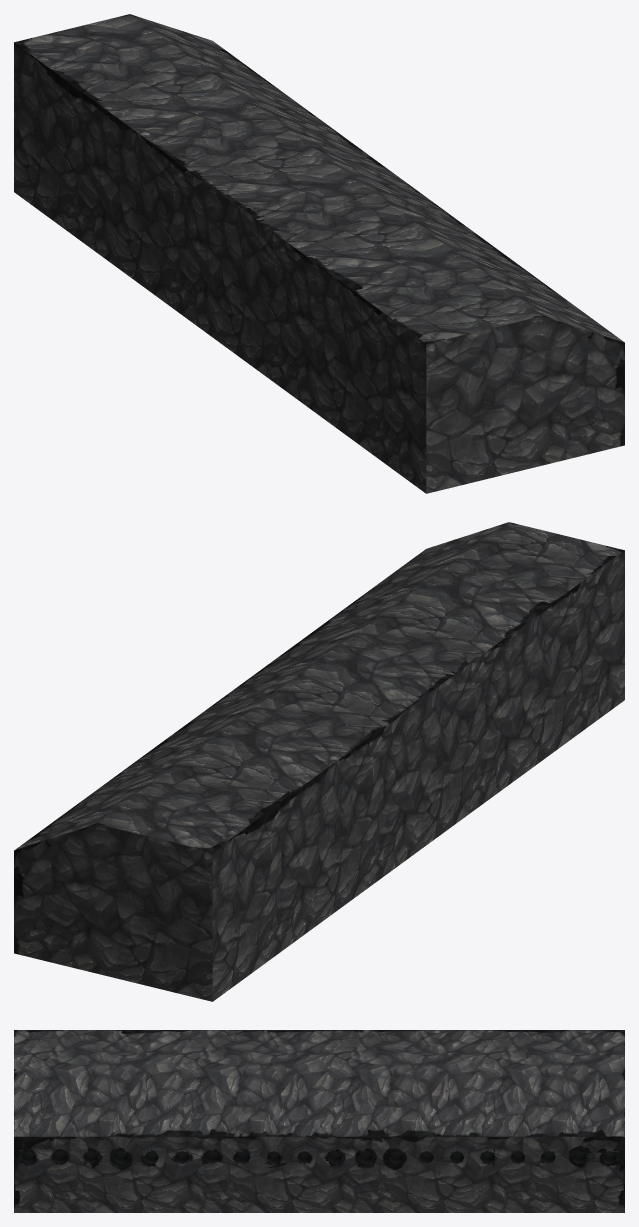
Rendered from Rock Arrow Wall.fbx.
3 views of the same model, one above another, from view 1: azimuth 30°, elevation 25°; view 2: azimuth 150°, elevation 25°; view 3: azimuth 270°, elevation 25° (orthographic). The views are drawn at different scales.
Visible parts, largest first — view 1: polymsh4; view 2: polymsh4; view 3: polymsh4.
Part boxes in pixels (left/top/right/bottom): polymsh4: left=14, top=14, right=624, bottom=493; polymsh4: left=14, top=522, right=624, bottom=1001; polymsh4: left=14, top=1030, right=624, bottom=1212.
Bounding box in the file's own units: 11.13 × 8.02 × 40.
